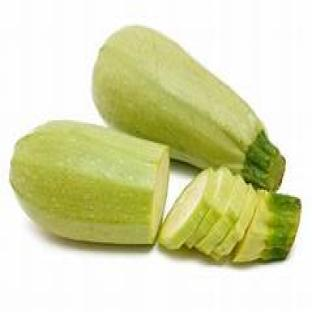Zucchini: (93, 27, 284, 189), (11, 123, 168, 244), (160, 168, 300, 261), (233, 190, 300, 263), (158, 171, 211, 249), (196, 175, 248, 254), (187, 168, 233, 247), (211, 185, 258, 261)
